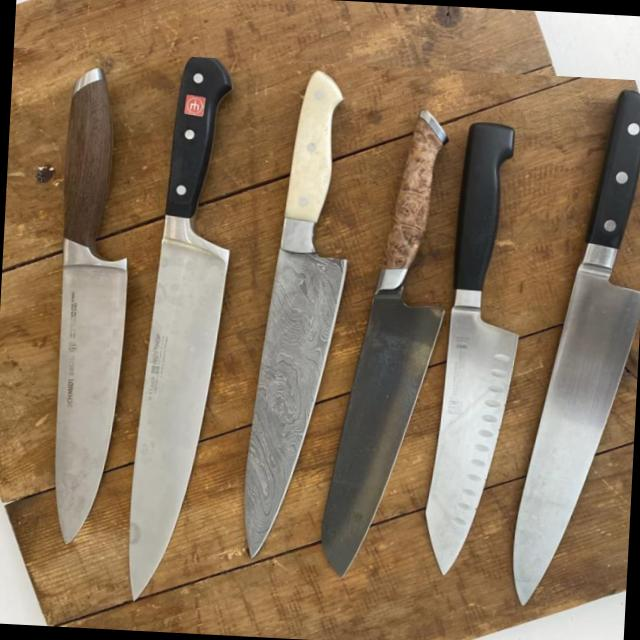Weapon: (495, 76, 640, 621), (113, 48, 244, 610), (310, 107, 454, 584), (224, 68, 360, 569), (410, 110, 536, 586), (30, 64, 142, 556)
